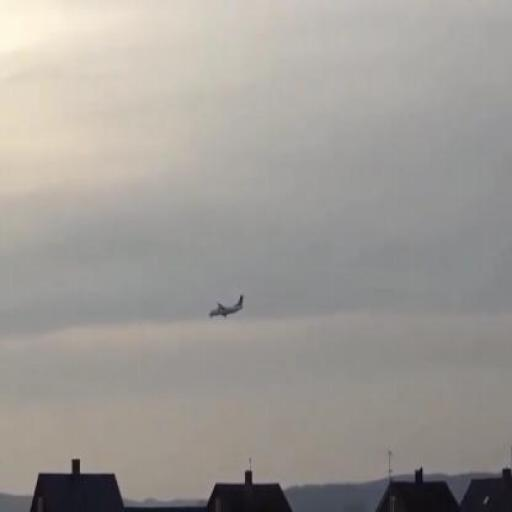aircraft: (209, 296, 245, 322)
